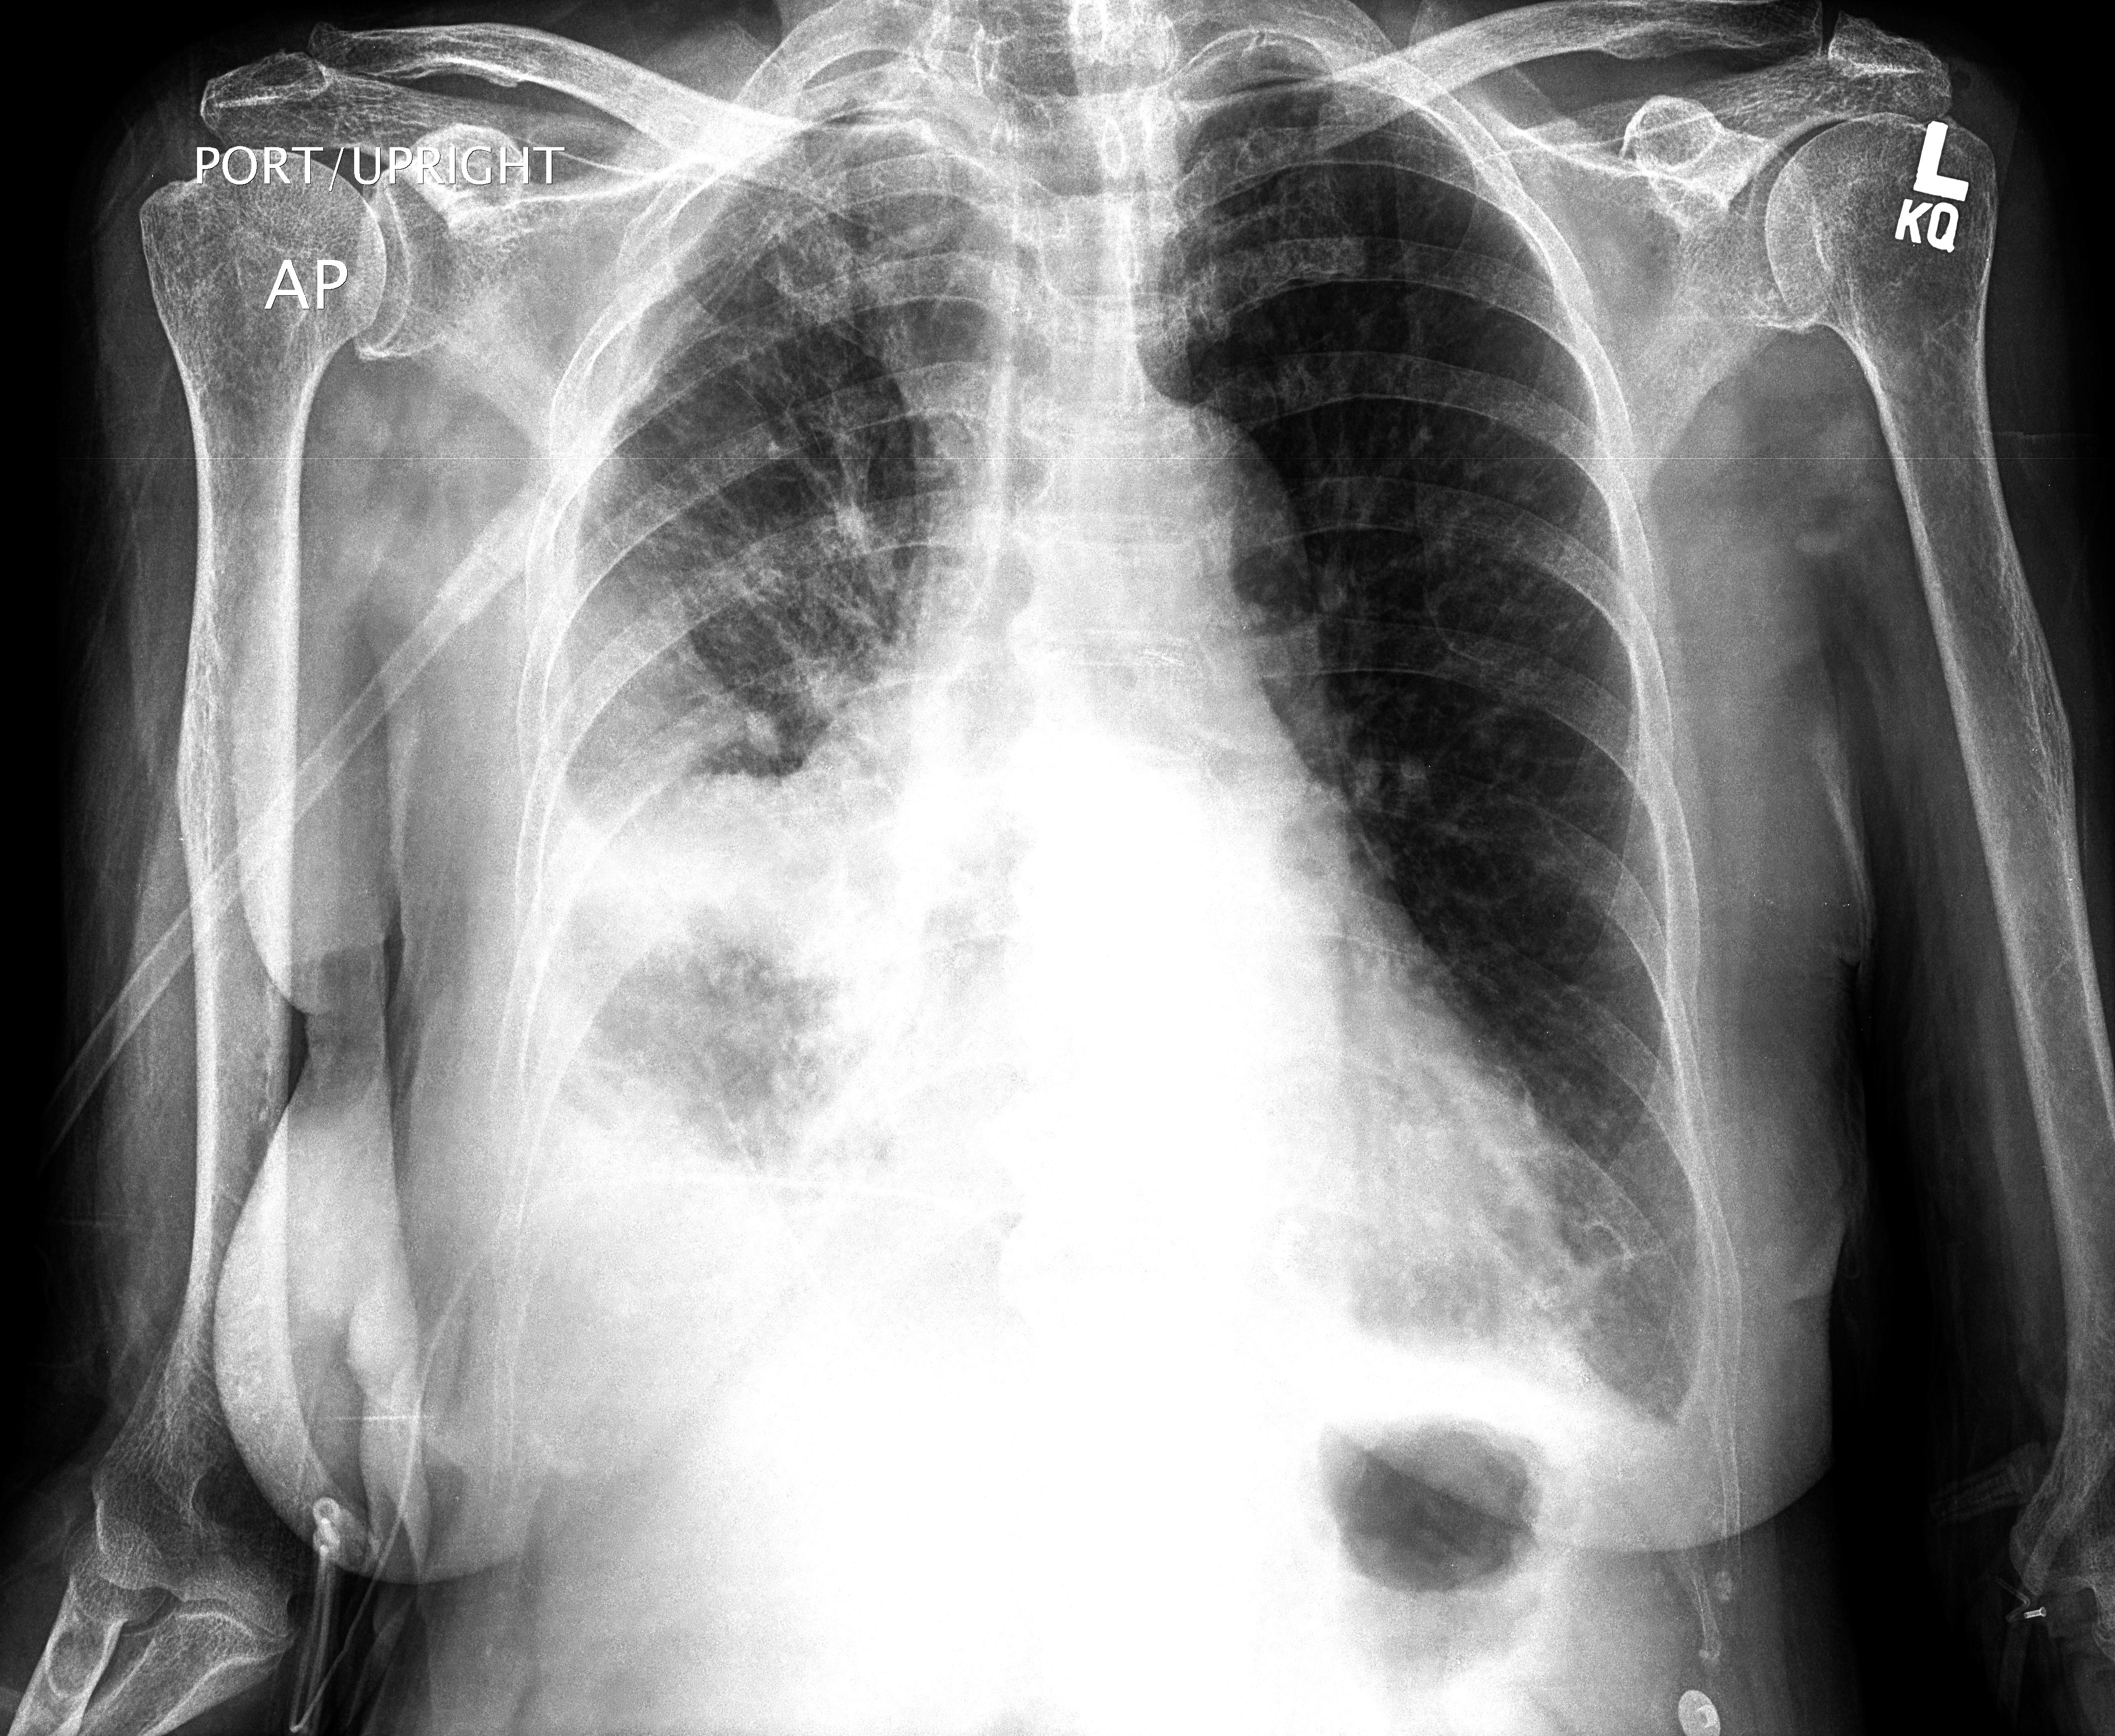Pleural Effusion: (466, 785, 884, 1327)
